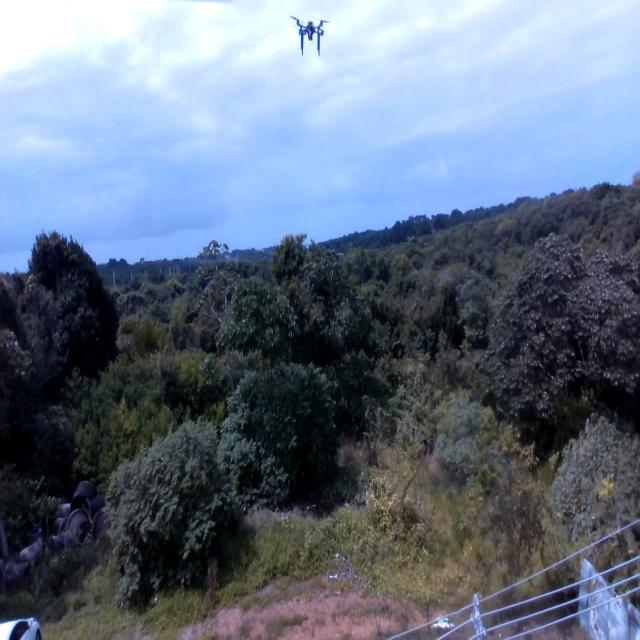-uav-: (286, 2, 331, 65)
